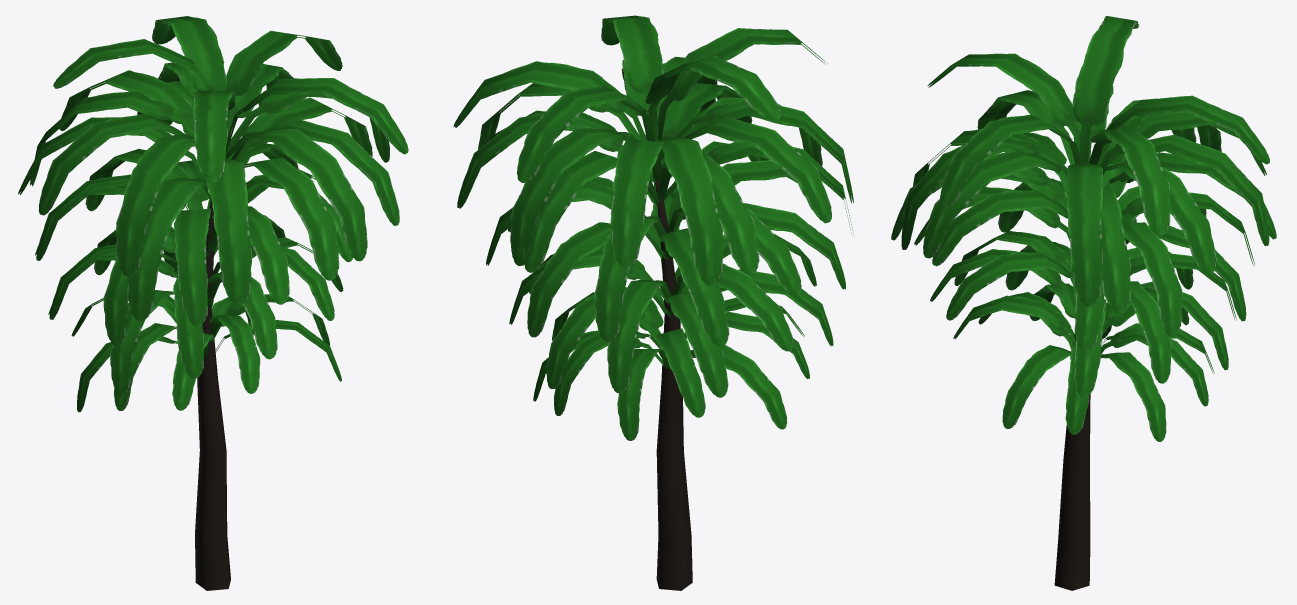
The model's file is Palm1.FBX.
3 renders of one model, left to right at view 1: azimuth 30°, elevation 25°; view 2: azimuth 150°, elevation 25°; view 3: azimuth 270°, elevation 25°, orthographic. The views are drawn at different scales.
Parts seen in each view (by area): view 1: Palm1; view 2: Palm1; view 3: Palm1.
Boxes of the visible parts, bbox=[...] form: Palm1: bbox=[18, 16, 408, 590]; Palm1: bbox=[453, 15, 853, 590]; Palm1: bbox=[891, 15, 1276, 590].
Bounding box in the file's own units: 5.62 × 8.2 × 5.62.
1 material, 1 textured.
